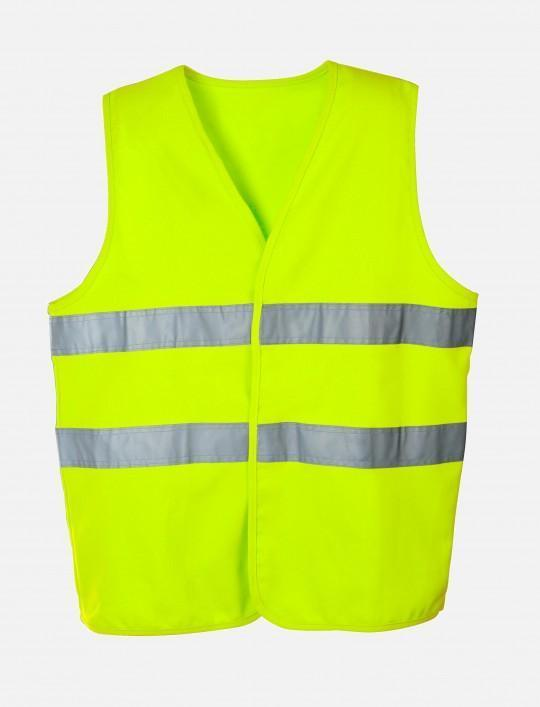vest: (41, 58, 478, 638)
